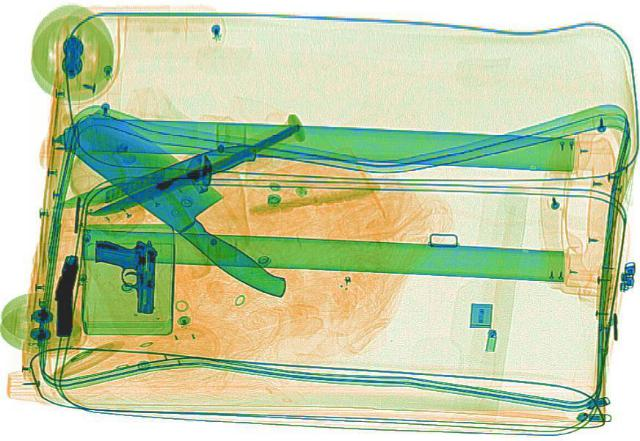Gun: (88, 237, 158, 313), (50, 254, 80, 335)
Knife: (41, 104, 326, 301), (84, 123, 308, 220), (45, 138, 263, 215)
